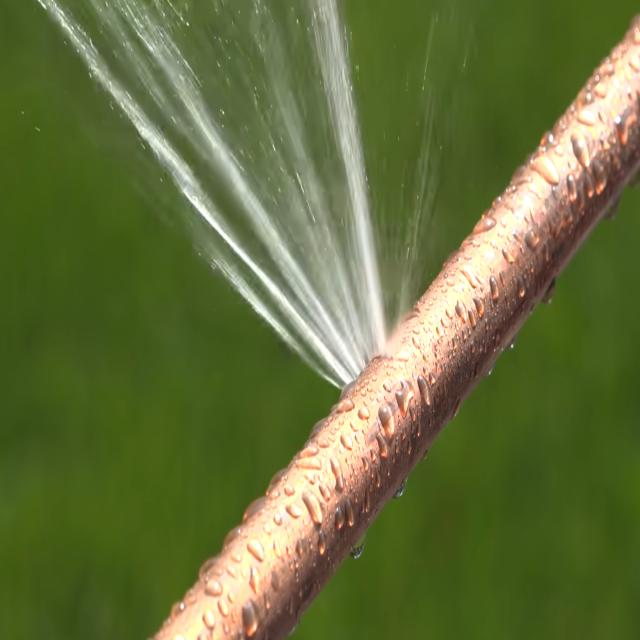leak: (29, 0, 403, 398)
